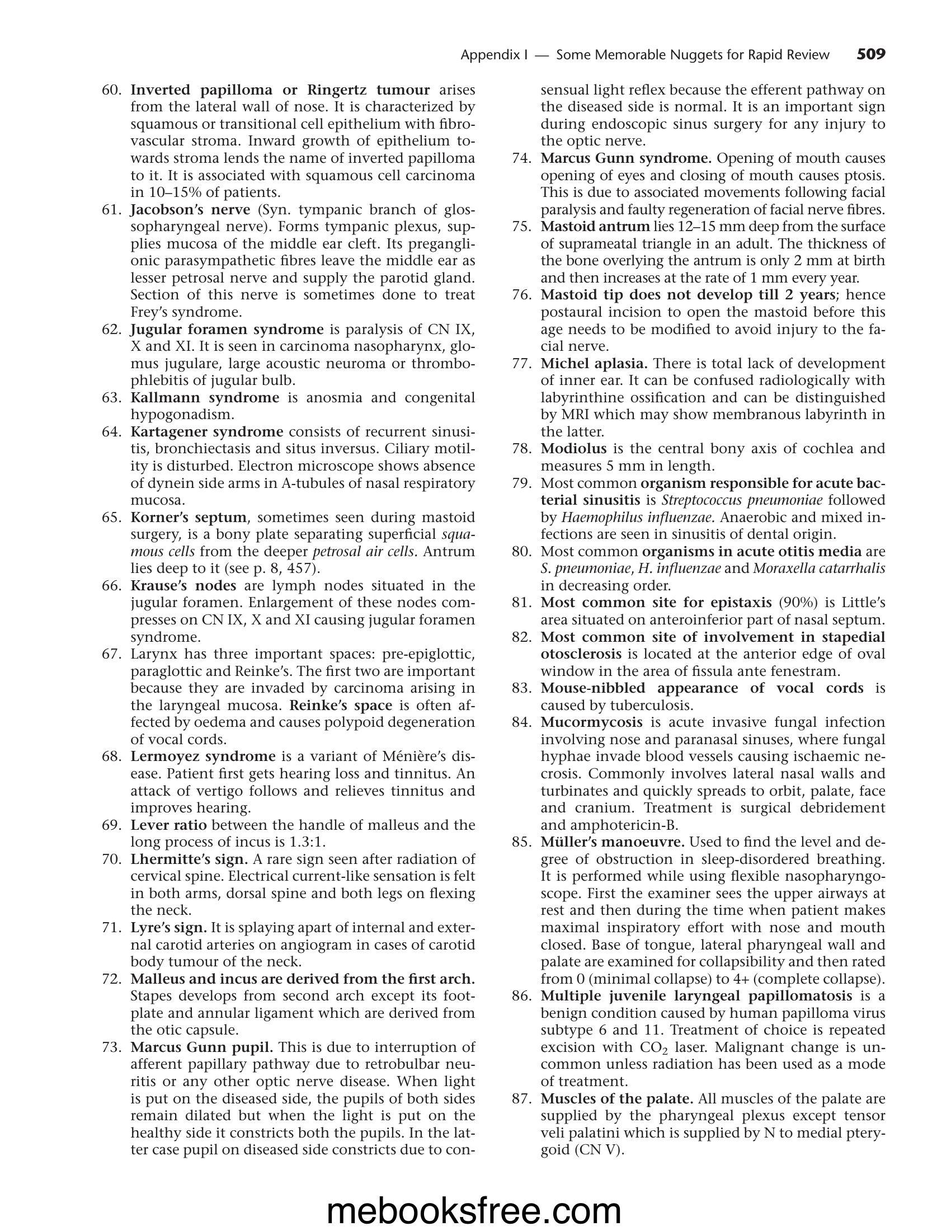header: (460, 46, 832, 65)
list: (509, 81, 889, 1160), (100, 81, 477, 1160)
